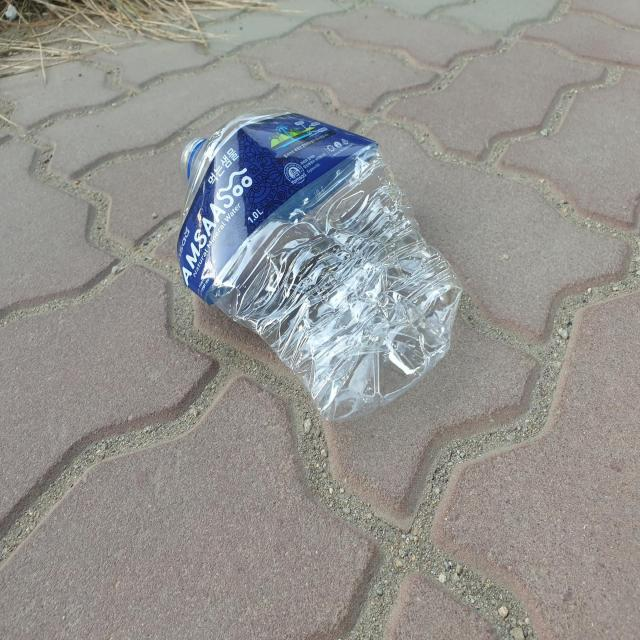plastic: (177, 111, 462, 421)
